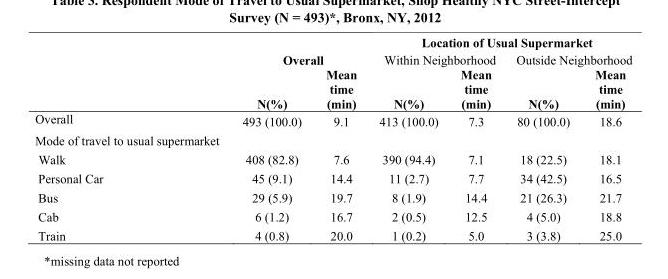table: (34, 35, 631, 242)
table column: (34, 35, 230, 242), (230, 35, 313, 242), (367, 35, 448, 242), (505, 35, 581, 242), (448, 35, 505, 242), (313, 35, 367, 242), (581, 35, 631, 242)
table column header: (34, 35, 631, 110)
table projected row header: (34, 130, 631, 149)
table row: (34, 66, 631, 110), (34, 110, 631, 130), (34, 130, 631, 149), (34, 149, 631, 168), (34, 168, 631, 187), (34, 187, 631, 206), (34, 206, 631, 225), (34, 225, 631, 242), (34, 50, 631, 66), (34, 35, 631, 50)
table spanning cell: (230, 35, 367, 66), (367, 35, 631, 50), (367, 50, 505, 66), (505, 50, 631, 66)
